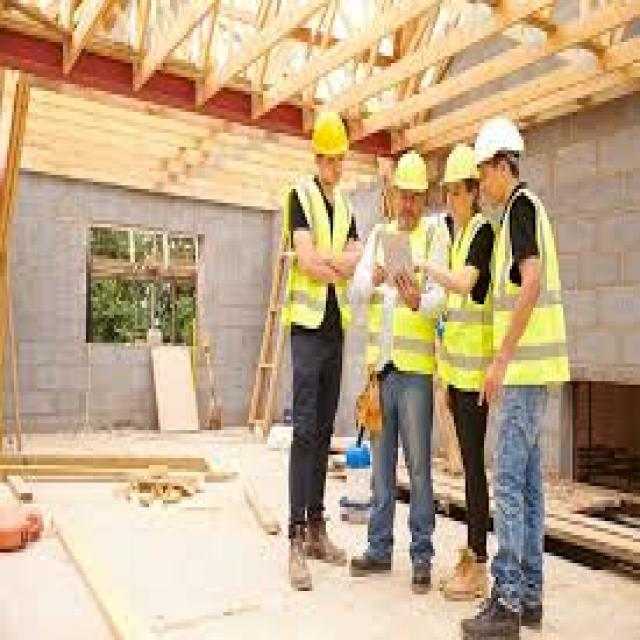Reflective-Jacket: (491, 189, 575, 395), (277, 178, 358, 336), (437, 214, 500, 412), (366, 220, 438, 385)
Safety-Helmet: (472, 112, 528, 168), (307, 105, 354, 164), (391, 143, 431, 200), (440, 140, 482, 189)
